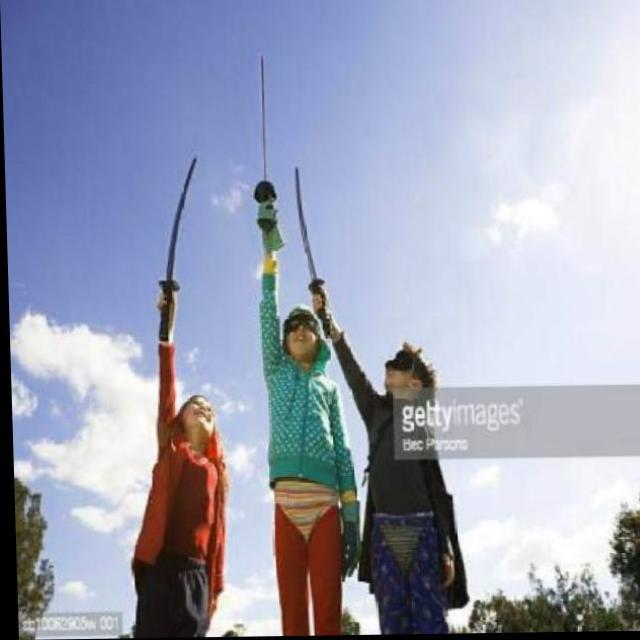weapon: (307, 286, 468, 636), (246, 182, 364, 636), (110, 278, 232, 638), (152, 154, 201, 342)
